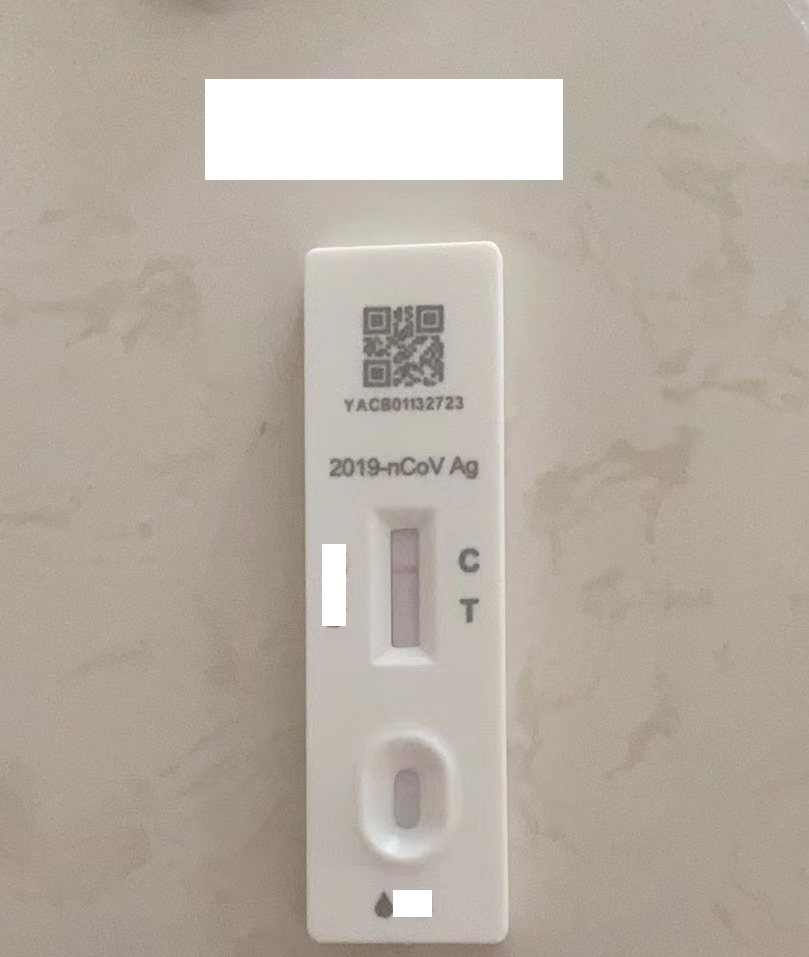negative: (375, 505, 435, 664)
